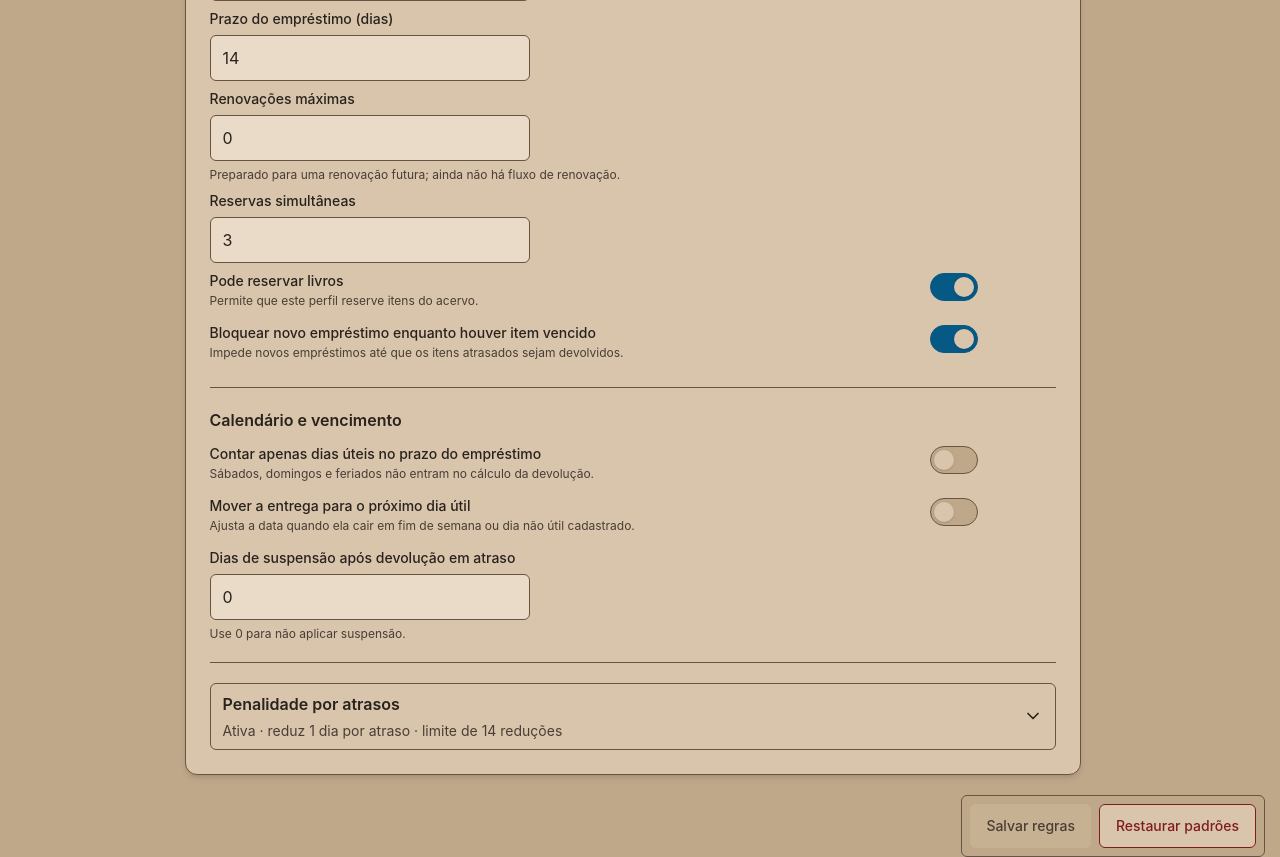
Scenario: CirculationPoliciesPage › shows the restore confirmation and keeps restoration pending until saved
(page scrolled)
Click the button "Restaurar padrões" at (1177, 826), box [1099,804,1256,848]
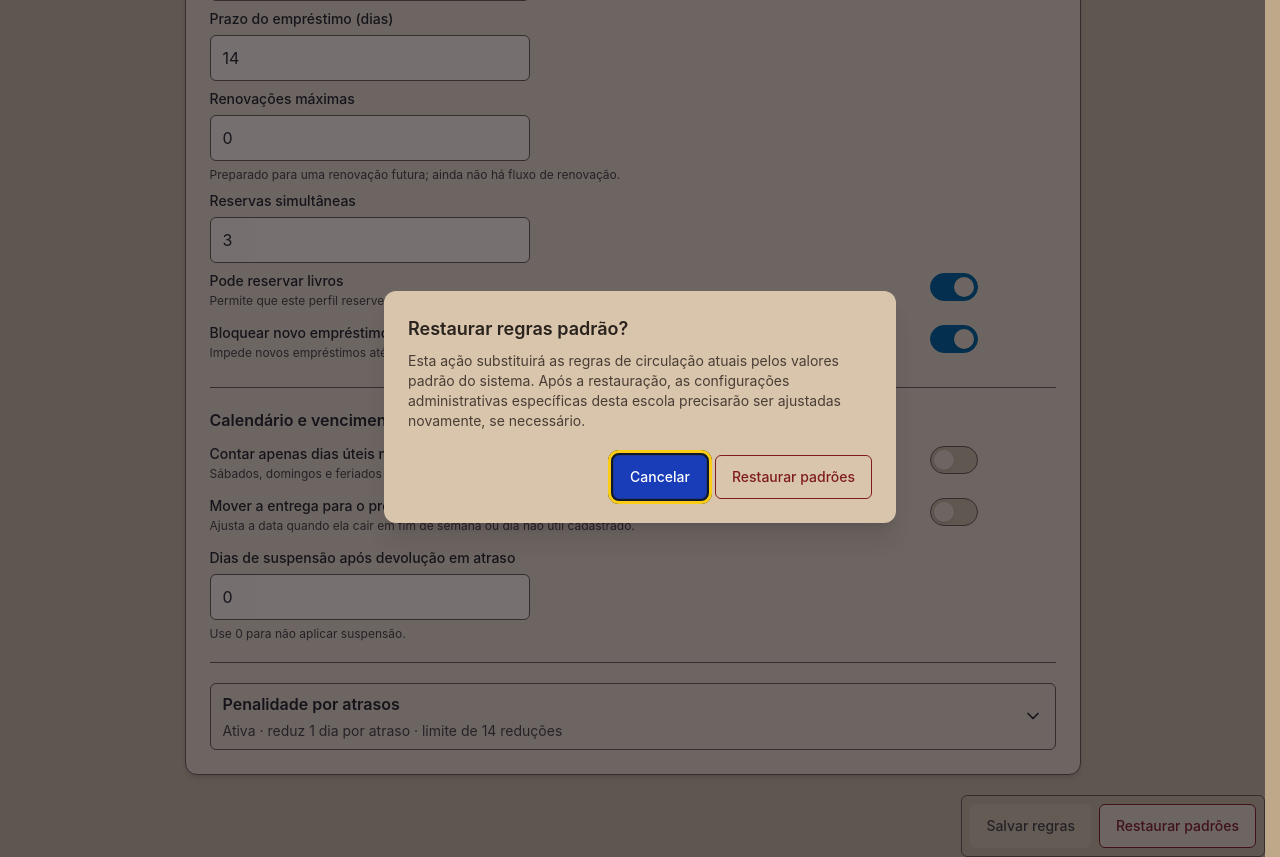
Expected: the dialog "Restaurar regras padrão?" shows "Esta ação substituirá as regras de circulação atuais", [408,352,841,429]
Click the button "Cancelar" at (660, 477), box [613,455,707,499]
(page scrolled)
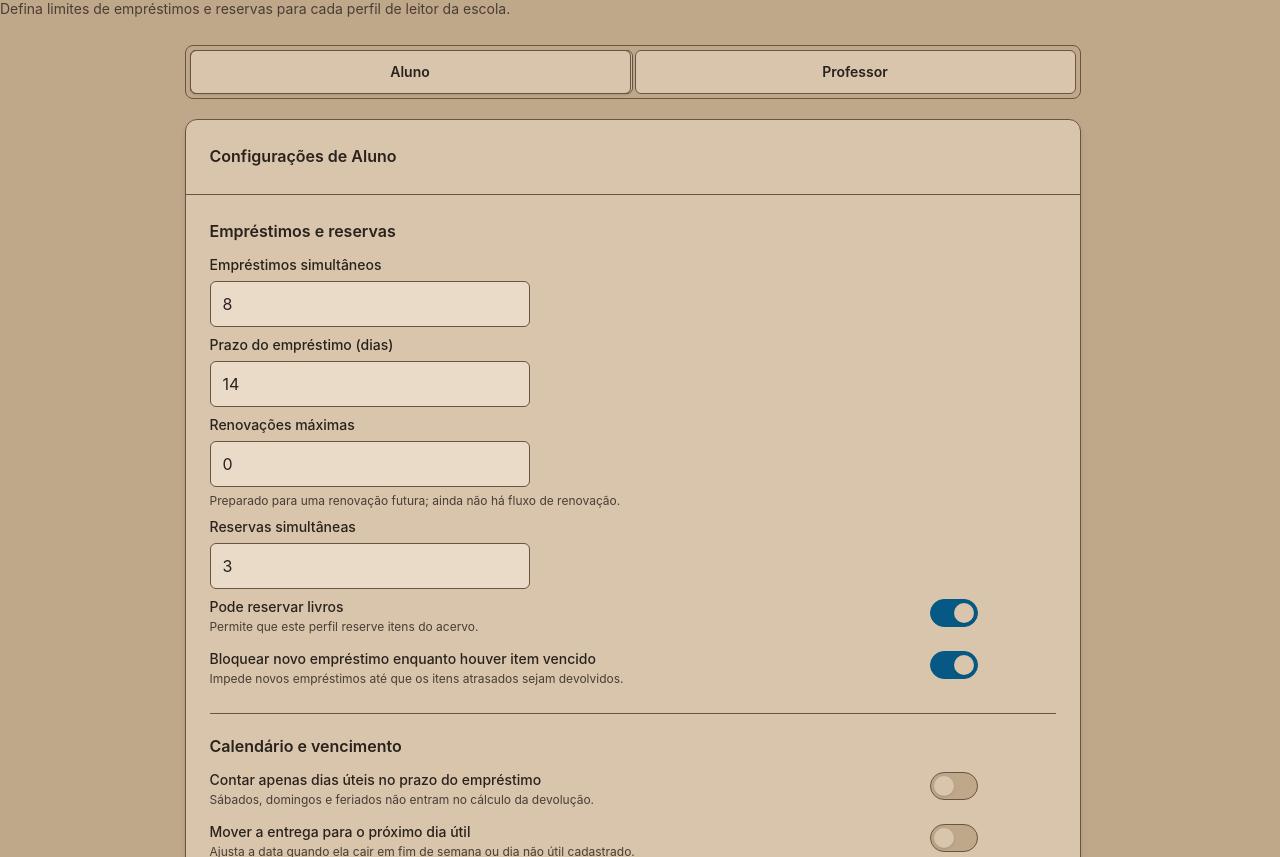
Expected: the heading "Restaurar regras padrão?" is gone
Replace the text in the number field labelled "Empréstimos simultâneos" with "9" at (370, 304), box [210,281,530,327]
(page scrolled)
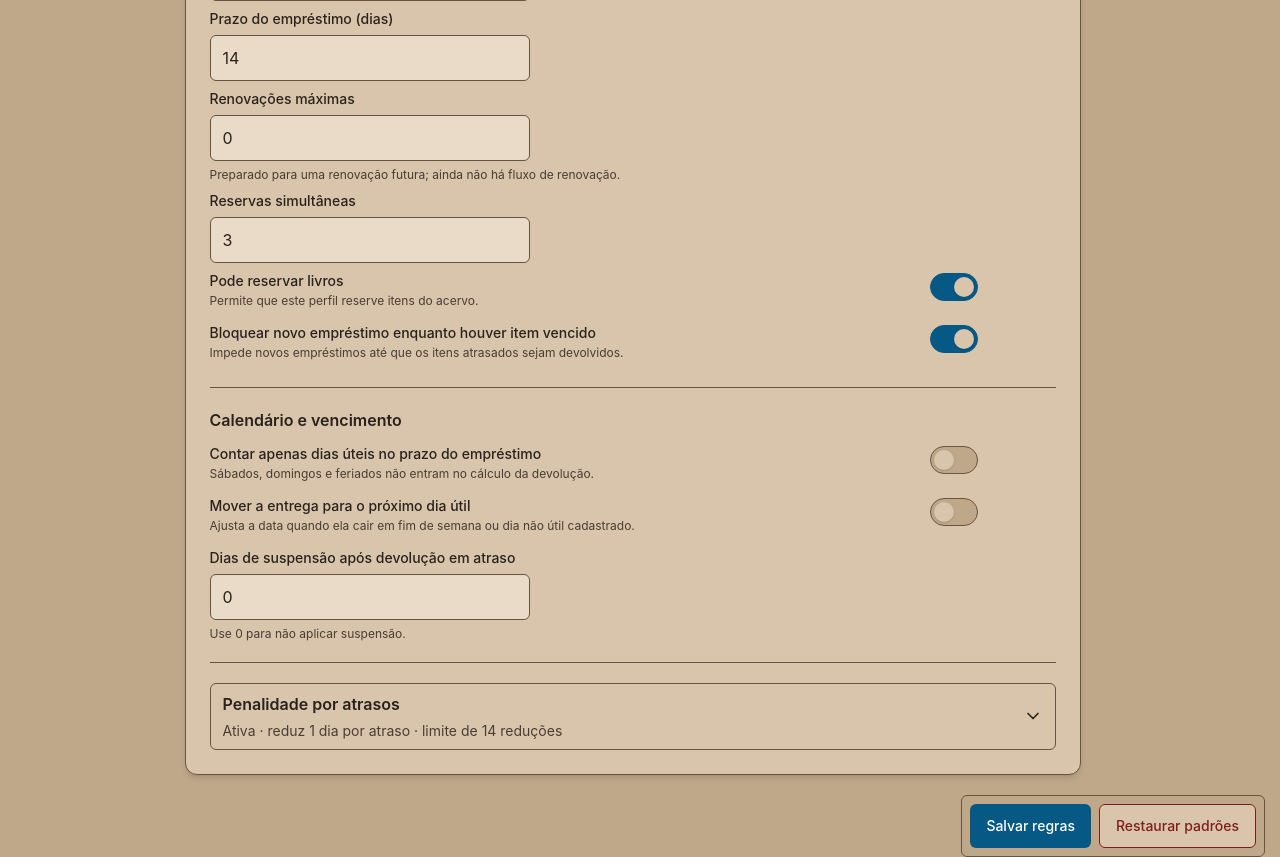
Click the button "Restaurar padrões" at (1177, 826), box [1099,804,1256,848]
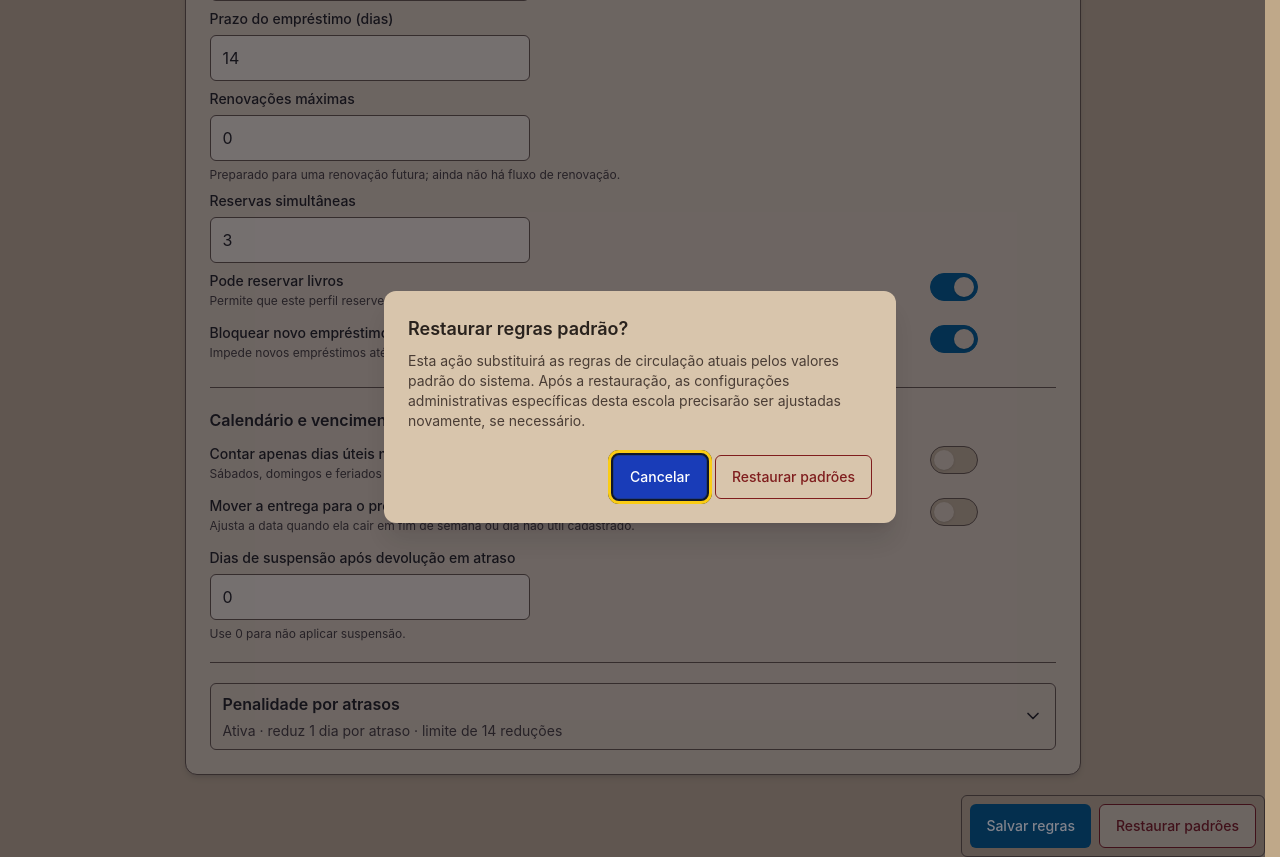
Click the button "Restaurar padrões" at (793, 477), box [715,455,872,499]
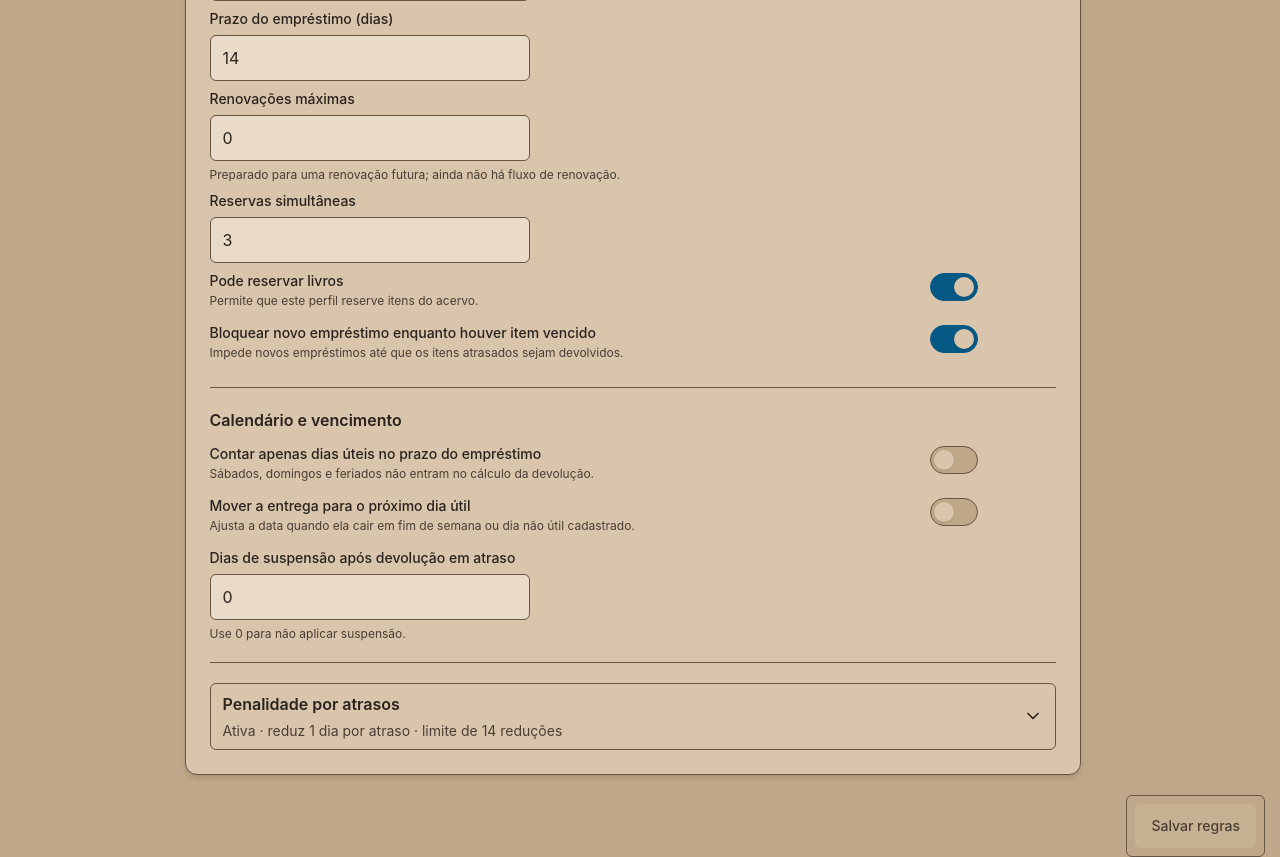
Expected: the button "Salvar regras" is disabled, [1135,804,1256,848]
Expected: the button "Restaurar padrões" is gone
